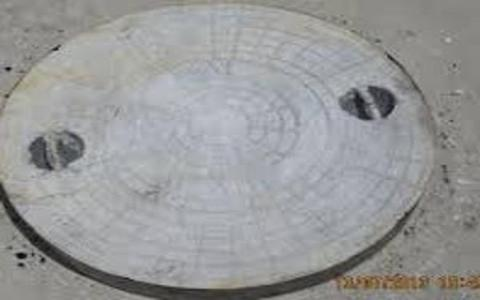proper manhole: (2, 3, 472, 296)
